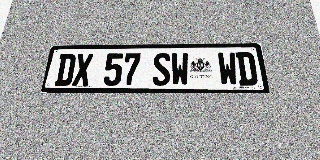5: (103, 53, 123, 86)
7: (121, 53, 141, 86)
D: (235, 52, 258, 86), (54, 54, 76, 86)
S: (152, 53, 170, 86)
W: (217, 52, 239, 86), (171, 53, 189, 86)
X: (72, 54, 93, 86)
